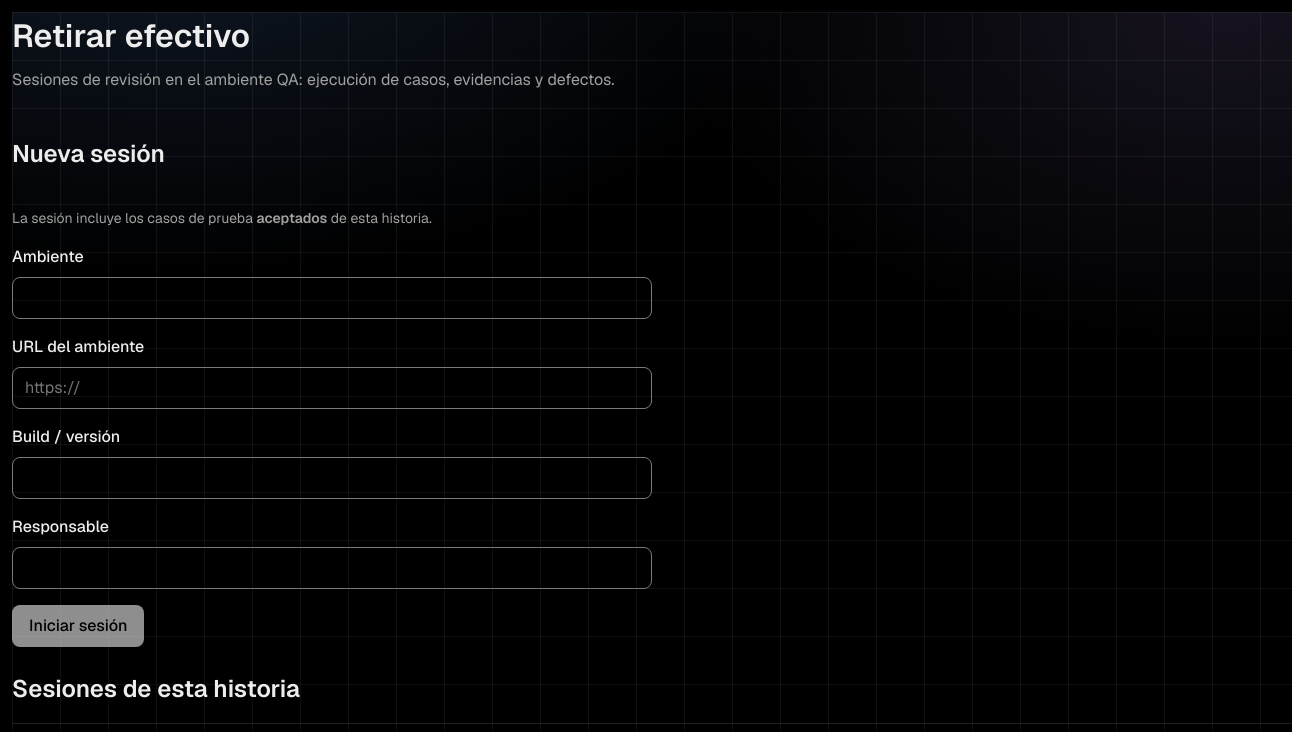
Test: SessionsPage › rechaza una URL de ambiente que no sea http o https
Type "QA" into the field labelled "Ambiente".
click(332, 298); type("QA")  # box [12,277,652,319]
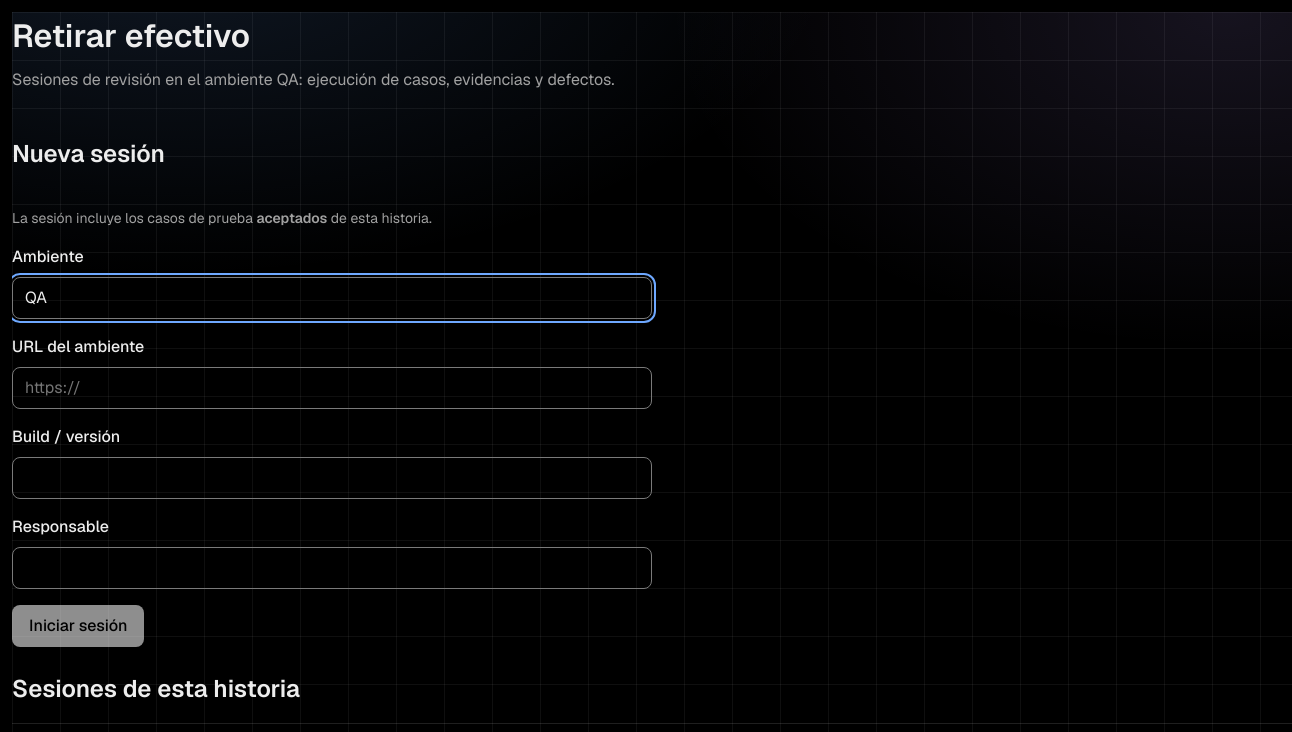
Type "javascript:alert(1)" into the field labelled "URL del ambiente".
click(332, 388); type("javascript:alert(1)")  # box [12,367,652,409]
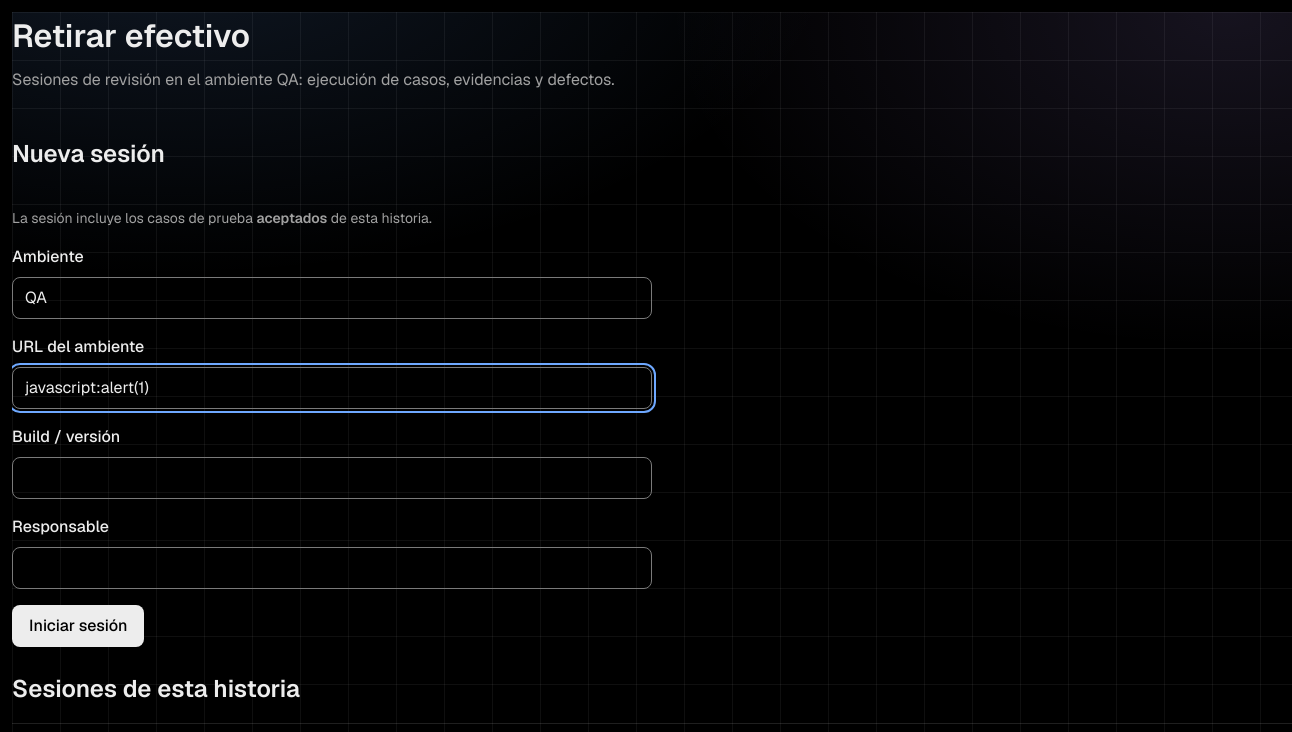
Click the button "Iniciar sesión".
click(78, 626)  # box [12,605,144,647]
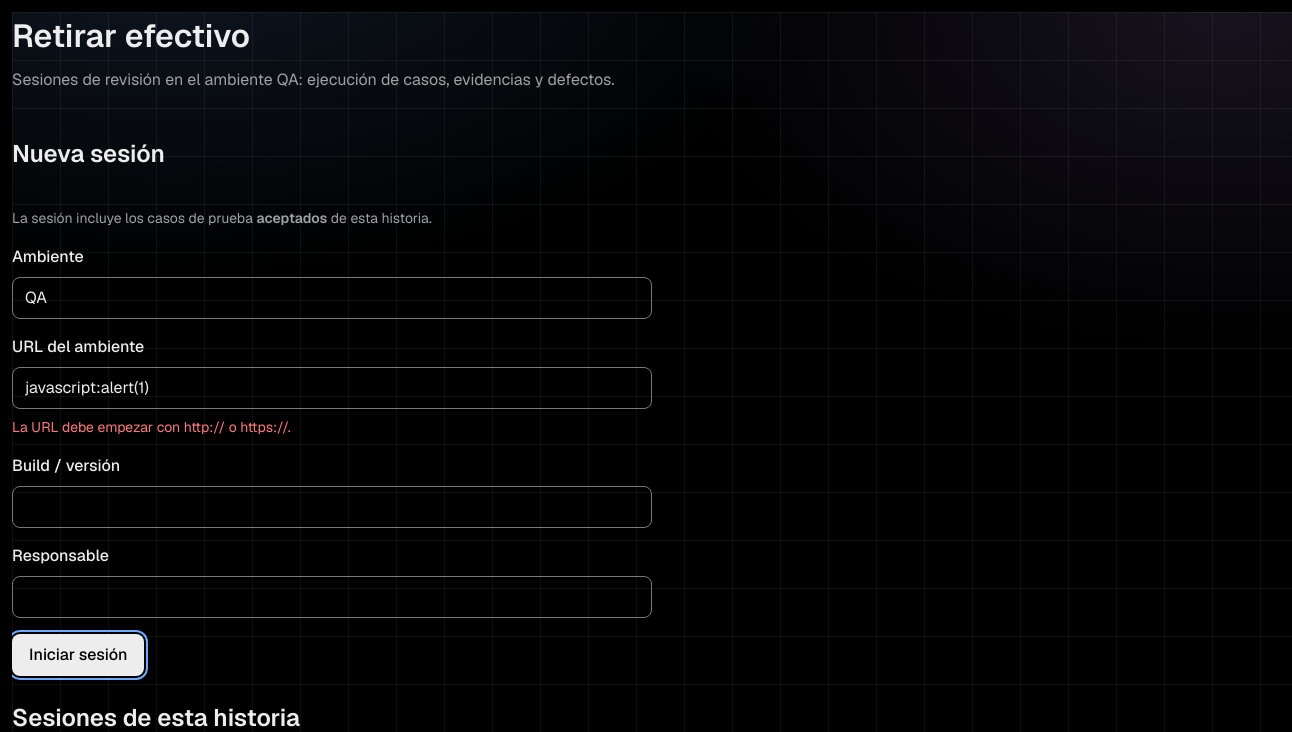
Expected: the text "La URL debe empezar con http:// o https://." is shown, [12,418,290,436]
